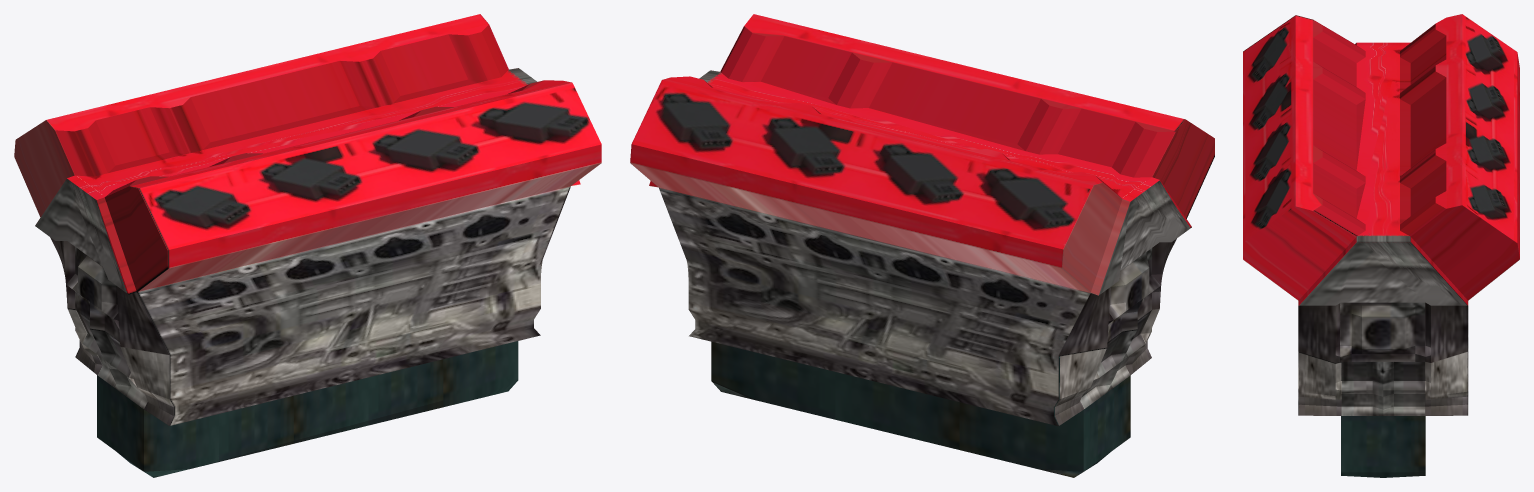
File: v8_engine.fbx
The picture shows the model from 3 angles, left to right: view 1: azimuth 30°, elevation 25°; view 2: azimuth 150°, elevation 25°; view 3: azimuth 270°, elevation 25°; orthographic projection. The views are drawn at different scales.
Parts seen in each view (by area): view 1: Cube; view 2: Cube; view 3: Cube.
Part boxes in pixels (<box>): Cube: <box>14,14,601,477</box>; Cube: <box>630,14,1214,477</box>; Cube: <box>1243,14,1519,477</box>.
Bounding box in the file's own units: 166 × 119 × 97.87.
2 materials, 2 textured.
